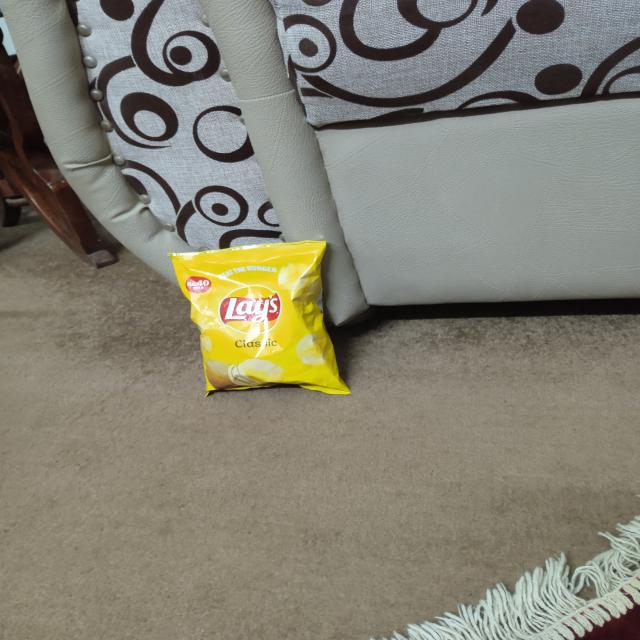Plastic: (168, 240, 364, 398)
